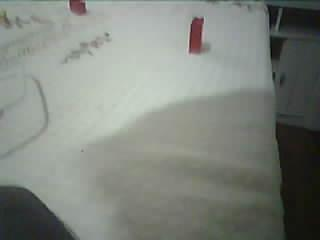lego: (187, 15, 203, 54), (68, 1, 87, 14)
